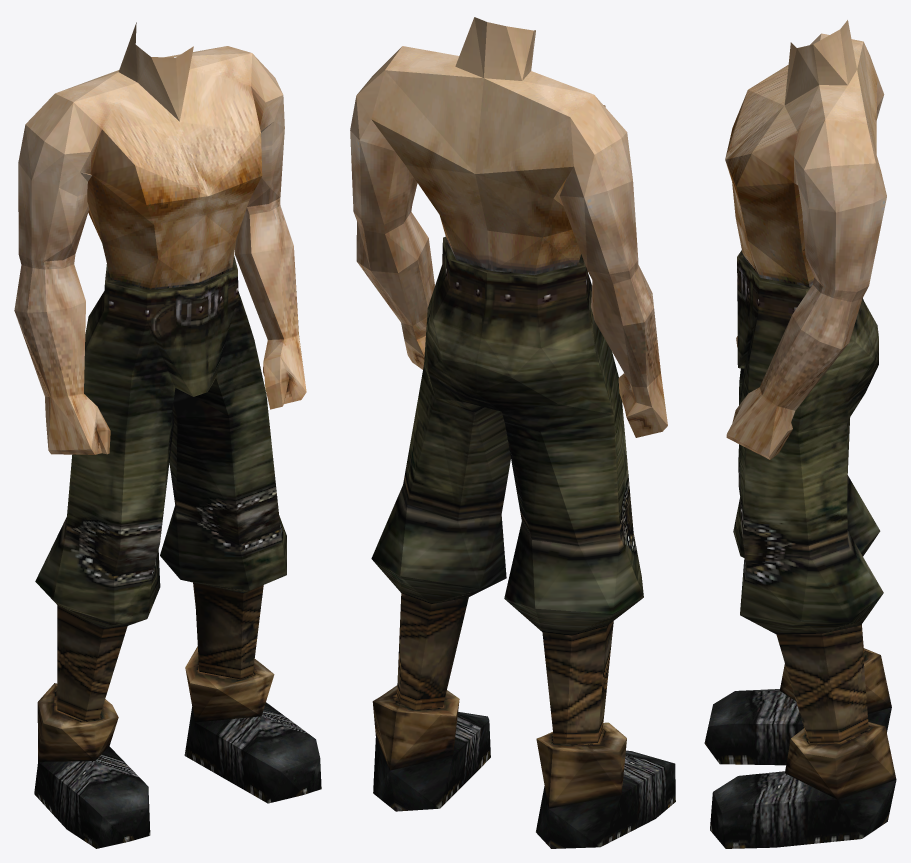
Rendered from Hum_VlkL_Armorr.glb.
3 views of the same model, side by side, from view 1: azimuth 30°, elevation 25°; view 2: azimuth 150°, elevation 25°; view 3: azimuth 270°, elevation 25° (orthographic). The views are drawn at different scales.
Visible parts, largest first — view 1: zm_VLK_TL; view 2: zm_VLK_TL; view 3: zm_VLK_TL.
Boxes of the visible parts, bbox=[...] form: zm_VLK_TL: bbox=[14, 22, 321, 848]; zm_VLK_TL: bbox=[350, 17, 675, 848]; zm_VLK_TL: bbox=[704, 20, 896, 848].
Size of the model in its own units: 0.6295 by 1.69 by 0.3785.
Materials: 2 (2 with a texture image).
